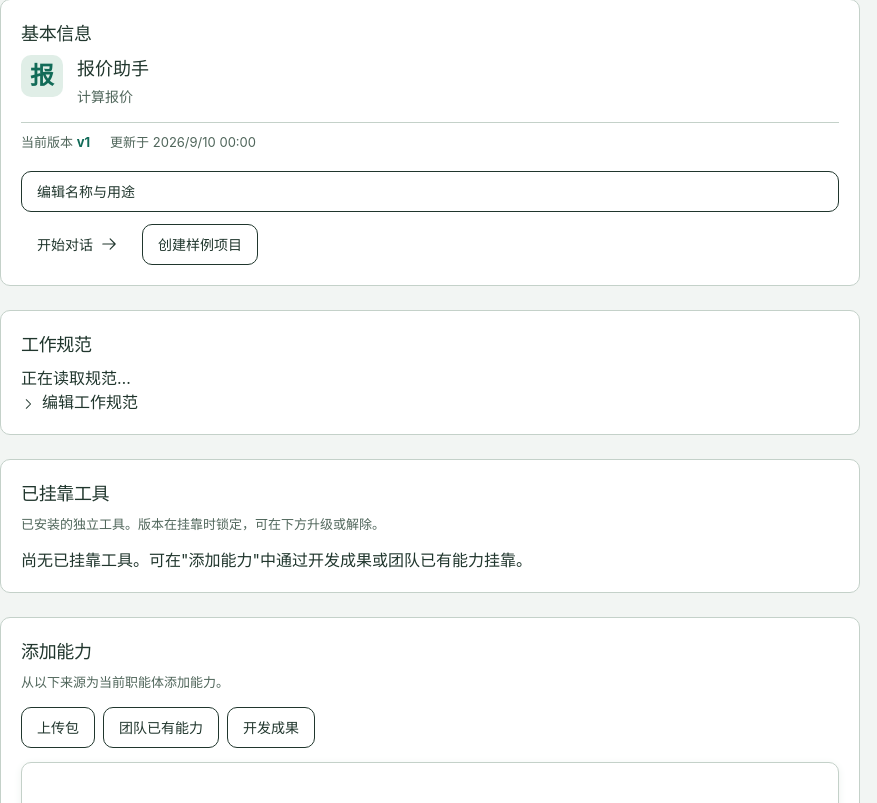
Scenario: upload source clearly distinguishes Skill ZIP from agent pack import
Click the button "上传包" at (58, 727), box [21, 707, 95, 748]
(page scrolled)
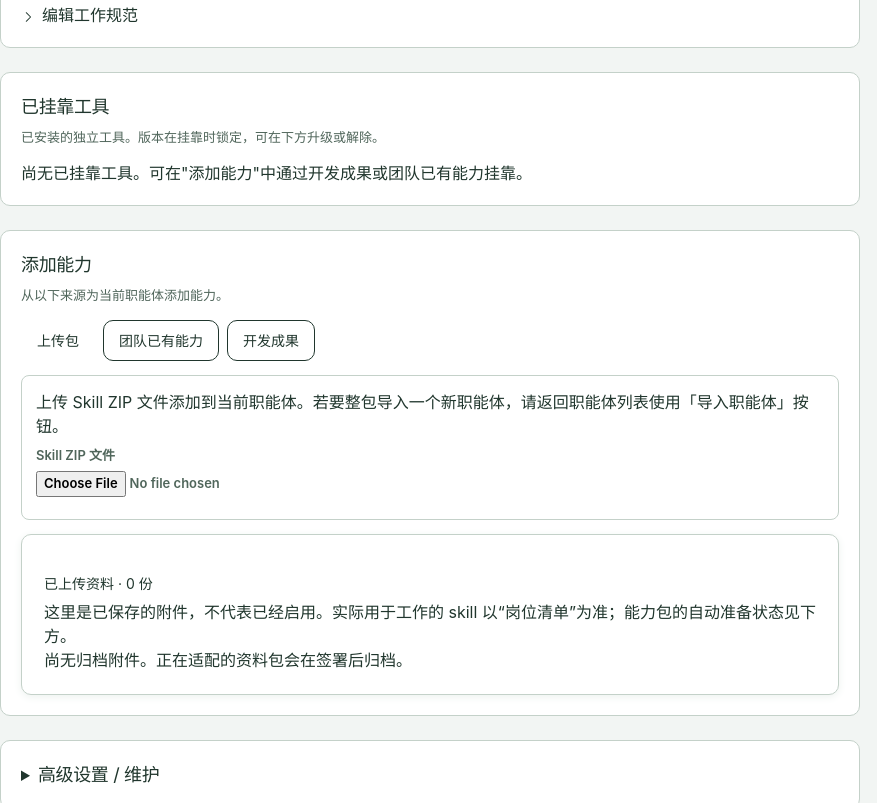
Result: the element with test id "source-upload" shows "导入职能体" at [36, 392, 809, 436]
